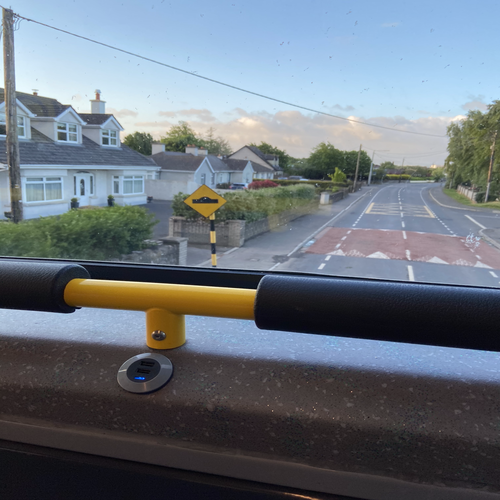Bump Ahead: (182, 183, 227, 217)
